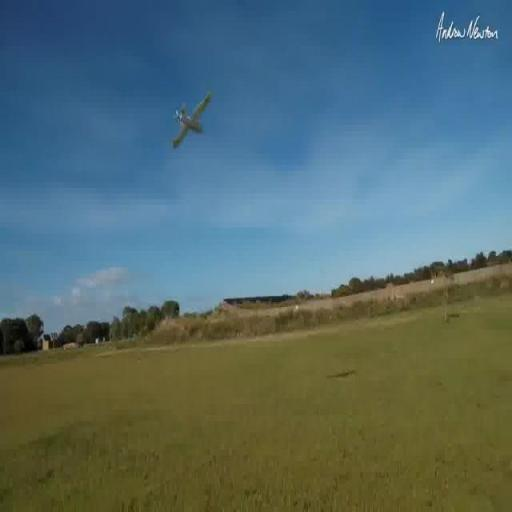uav: (148, 70, 225, 172)
